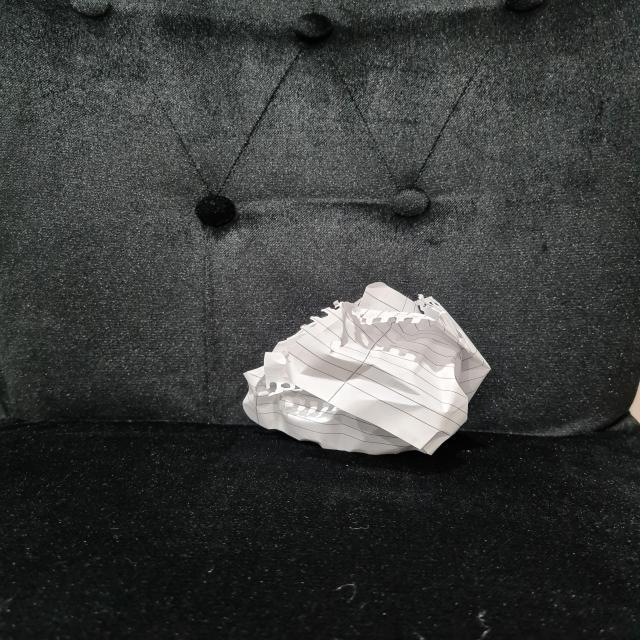cardboard paper: (242, 281, 488, 452)
